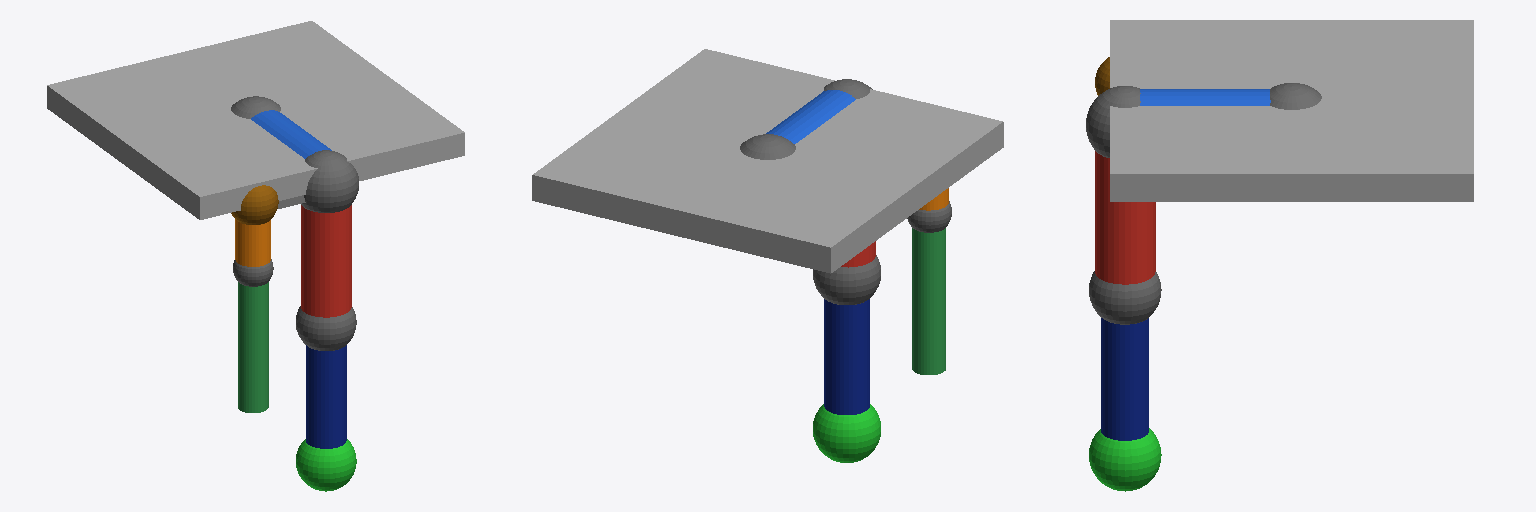
robot.urdf — spot_micro_leg_test_stand:
<?xml version="1.0"?>
<robot name="spot_micro_leg_test_stand">

  <!--
    SpotMicro-inspired single leg on a fixed test stand.
    Four-bar parallel linkage knee drive (MG996R-style).

    Dimensions (from V1 Fusion CAD export):
      L1 (shoulder offset)   = 0.055 m
      L2 (femur)             = 0.060 m
      L3 (tibia)             = 0.060 m
      Ground link            = 0.033 m  (between hip and knee-drive pivots)
      Crank (servo arm)      = 0.029 m
      Coupler (push-rod)     = 0.060 m

    Tree structure (PyBullet needs open chain; loop closed by constraint):
      base_link
        └─ hip_abduction → shoulder_link
             ├─ hip_flexion → femur_link
             │     └─ knee_passive → tibia_link
             │           └─ foot_fixed → foot_link
             └─ knee_drive → crank_link
                   └─ coupler_passive → coupler_link
                         [constraint closes loop to knee pivot]
  -->

  <!-- ============ TEST STAND PLATFORM (fixed to world) ============ -->
  <link name="base_link">
    <visual>
      <geometry><box size="0.12 0.12 0.01"/></geometry>
      <material name="aluminum"><color rgba="0.7 0.7 0.7 1.0"/></material>
    </visual>
    <collision>
      <geometry><box size="0.12 0.12 0.01"/></geometry>
    </collision>
    <inertial>
      <mass value="5.0"/>
      <inertia ixx="0.01" ixy="0" ixz="0" iyy="0.01" iyz="0" izz="0.01"/>
    </inertial>
  </link>

  <!-- ============ HIP ABDUCTION (q1, around X) ============ -->
  <joint name="hip_abduction" type="revolute">
    <parent link="base_link"/>
    <child  link="shoulder_link"/>
    <origin xyz="0 0 -0.005" rpy="0 0 0"/>
    <axis xyz="1 0 0"/>
    <limit lower="-0.548" upper="0.548" effort="12" velocity="6.28"/>
    <dynamics damping="0.1" friction="0.05"/>
  </joint>

  <link name="shoulder_link">
    <visual>
      <origin xyz="0 0 0"/>
      <geometry><sphere radius="0.014"/></geometry>
      <material name="joint_gray"><color rgba="0.45 0.45 0.45 1.0"/></material>
    </visual>
    <!-- lateral offset cylinder (along -Y for right leg) -->
    <visual>
      <origin xyz="0 -0.0275 0" rpy="1.5708 0 0"/>
      <geometry><cylinder radius="0.012" length="0.055"/></geometry>
      <material name="blue"><color rgba="0.20 0.45 0.85 1.0"/></material>
    </visual>
    <!-- ground link bar connecting hip pivot to knee-drive pivot -->
    <visual>
      <origin xyz="-0.0165 -0.055 0" rpy="0 0 0"/>
      <geometry><box size="0.033 0.008 0.008"/></geometry>
      <material name="bracket"><color rgba="0.55 0.55 0.55 1.0"/></material>
    </visual>
    <collision>
      <origin xyz="0 -0.0275 0" rpy="1.5708 0 0"/>
      <geometry><cylinder radius="0.012" length="0.055"/></geometry>
    </collision>
    <inertial>
      <mass value="0.15"/>
      <origin xyz="0 -0.0275 0"/>
      <inertia ixx="0.00008" ixy="0" ixz="0" iyy="0.00008" iyz="0" izz="0.00002"/>
    </inertial>
  </link>

  <!-- ============ HIP FLEXION (q2, around Y) — drives femur ============ -->
  <joint name="hip_flexion" type="revolute">
    <parent link="shoulder_link"/>
    <child  link="femur_link"/>
    <origin xyz="0 -0.055 0" rpy="0 0 0"/>
    <axis xyz="0 1 0"/>
    <limit lower="-2.618" upper="2.618" effort="12" velocity="6.28"/>
    <dynamics damping="0.1" friction="0.05"/>
  </joint>

  <link name="femur_link">
    <visual>
      <origin xyz="0 0 0"/>
      <geometry><sphere radius="0.013"/></geometry>
      <material name="joint_gray"/>
    </visual>
    <visual>
      <origin xyz="0 0 -0.030"/>
      <geometry><cylinder radius="0.010" length="0.060"/></geometry>
      <material name="red"><color rgba="0.85 0.25 0.20 1.0"/></material>
    </visual>
    <collision>
      <origin xyz="0 0 -0.030"/>
      <geometry><cylinder radius="0.010" length="0.060"/></geometry>
    </collision>
    <inertial>
      <mass value="0.12"/>
      <origin xyz="0 0 -0.030"/>
      <inertia ixx="0.00008" ixy="0" ixz="0" iyy="0.00008" iyz="0" izz="0.00001"/>
    </inertial>
  </link>

  <!-- ============ KNEE (passive revolute, driven by four-bar constraint) ============ -->
  <joint name="knee_passive" type="revolute">
    <parent link="femur_link"/>
    <child  link="tibia_link"/>
    <origin xyz="0 0 -0.060" rpy="0 0 0"/>
    <axis xyz="0 1 0"/>
    <limit lower="-2.618" upper="2.618" effort="0" velocity="10.0"/>
    <dynamics damping="0.01" friction="0.01"/>
  </joint>

  <link name="tibia_link">
    <visual>
      <origin xyz="0 0 0"/>
      <geometry><sphere radius="0.012"/></geometry>
      <material name="joint_gray"/>
    </visual>
    <visual>
      <origin xyz="0 0 -0.030"/>
      <geometry><cylinder radius="0.008" length="0.060"/></geometry>
      <material name="dark_blue"><color rgba="0.12 0.22 0.60 1.0"/></material>
    </visual>
    <collision>
      <origin xyz="0 0 -0.030"/>
      <geometry><cylinder radius="0.008" length="0.060"/></geometry>
    </collision>
    <inertial>
      <mass value="0.08"/>
      <origin xyz="0 0 -0.030"/>
      <inertia ixx="0.00005" ixy="0" ixz="0" iyy="0.00005" iyz="0" izz="0.000005"/>
    </inertial>
  </link>

  <!-- ============ FOOT (fixed to tibia tip) ============ -->
  <joint name="foot_fixed" type="fixed">
    <parent link="tibia_link"/>
    <child  link="foot_link"/>
    <origin xyz="0 0 -0.060"/>
  </joint>

  <link name="foot_link">
    <visual>
      <geometry><sphere radius="0.012"/></geometry>
      <material name="green"><color rgba="0.20 0.80 0.25 1.0"/></material>
    </visual>
    <collision>
      <geometry><sphere radius="0.012"/></geometry>
    </collision>
    <inertial>
      <mass value="0.02"/>
      <inertia ixx="1e-6" ixy="0" ixz="0" iyy="1e-6" iyz="0" izz="1e-6"/>
    </inertial>
  </link>

  <!-- ============ KNEE DRIVE (four-bar crank, on shoulder) ============ -->
  <!--
    The knee-drive servo pivot is 33mm behind (-X) the hip flexion pivot,
    at the same lateral offset. Its crank arm (29mm) drives the four-bar.
  -->
  <joint name="knee_drive" type="revolute">
    <parent link="shoulder_link"/>
    <child  link="crank_link"/>
    <origin xyz="-0.033 -0.055 0" rpy="0 0 0"/>
    <axis xyz="0 1 0"/>
    <limit lower="-2.618" upper="2.618" effort="12" velocity="6.28"/>
    <dynamics damping="0.1" friction="0.05"/>
  </joint>

  <link name="crank_link">
    <visual>
      <origin xyz="0 0 0"/>
      <geometry><sphere radius="0.010"/></geometry>
      <material name="crank_pivot"><color rgba="0.6 0.4 0.1 1.0"/></material>
    </visual>
    <visual>
      <origin xyz="0 0 -0.0145"/>
      <geometry><cylinder radius="0.007" length="0.029"/></geometry>
      <material name="orange"><color rgba="0.95 0.55 0.10 1.0"/></material>
    </visual>
    <collision>
      <origin xyz="0 0 -0.0145"/>
      <geometry><cylinder radius="0.007" length="0.029"/></geometry>
    </collision>
    <inertial>
      <mass value="0.04"/>
      <origin xyz="0 0 -0.0145"/>
      <inertia ixx="0.000005" ixy="0" ixz="0" iyy="0.000005" iyz="0" izz="0.000002"/>
    </inertial>
  </link>

  <!-- ============ COUPLER (push-rod connecting crank to knee) ============ -->
  <joint name="coupler_passive" type="revolute">
    <parent link="crank_link"/>
    <child  link="coupler_link"/>
    <origin xyz="0 0 -0.029" rpy="0 0 0"/>
    <axis xyz="0 1 0"/>
    <limit lower="-3.14" upper="3.14" effort="0" velocity="10.0"/>
    <dynamics damping="0.01" friction="0.01"/>
  </joint>

  <link name="coupler_link">
    <visual>
      <origin xyz="0 0 0"/>
      <geometry><sphere radius="0.008"/></geometry>
      <material name="joint_gray"/>
    </visual>
    <visual>
      <origin xyz="0 0 -0.030"/>
      <geometry><cylinder radius="0.006" length="0.060"/></geometry>
      <material name="coupler_green"><color rgba="0.25 0.65 0.35 1.0"/></material>
    </visual>
    <collision>
      <origin xyz="0 0 -0.030"/>
      <geometry><cylinder radius="0.006" length="0.060"/></geometry>
    </collision>
    <inertial>
      <mass value="0.05"/>
      <origin xyz="0 0 -0.030"/>
      <inertia ixx="0.00003" ixy="0" ixz="0" iyy="0.00003" iyz="0" izz="0.000003"/>
    </inertial>
  </link>

</robot>

--- What the picture shows (computed from the rendered views, not written in the file) ---
Views: 3 orthographic renders of the robot side by side, from view 1: azimuth 30°, elevation 25°; view 2: azimuth 150°, elevation 25°; view 3: azimuth 270°, elevation 25°.
Robot: spot_micro_leg_test_stand — 7 links, 6 joints (5 revolute, 1 fixed); root link base_link; default pose: every joint at zero.
Links seen in each view (by area): view 1: base_link, femur_link, tibia_link, coupler_link, crank_link, shoulder_link, foot_link; view 2: base_link, tibia_link, coupler_link, shoulder_link, foot_link, femur_link; view 3: base_link, tibia_link, femur_link, shoulder_link, foot_link.
Link boxes in pixels (<box>): base_link: <box>47,21,464,219</box>; femur_link: <box>301,150,358,317</box>; tibia_link: <box>296,306,356,448</box>; coupler_link: <box>233,259,273,412</box>; crank_link: <box>231,185,278,266</box>; shoulder_link: <box>231,96,331,208</box>; foot_link: <box>296,439,356,491</box>; base_link: <box>532,49,1003,273</box>; tibia_link: <box>813,255,880,414</box>; coupler_link: <box>907,201,951,374</box>; shoulder_link: <box>740,90,855,159</box>; foot_link: <box>813,404,880,462</box>; femur_link: <box>824,79,875,267</box>; base_link: <box>1110,20,1473,201</box>; tibia_link: <box>1089,271,1161,440</box>; femur_link: <box>1086,86,1155,284</box>; shoulder_link: <box>1140,83,1321,109</box>; foot_link: <box>1089,428,1161,491</box>.
Bounding box of the posed robot: 0.12 × 0.128 × 0.146 m (x, y, z).
Geometry: primitives only (box / cylinder / sphere), no mesh files.
